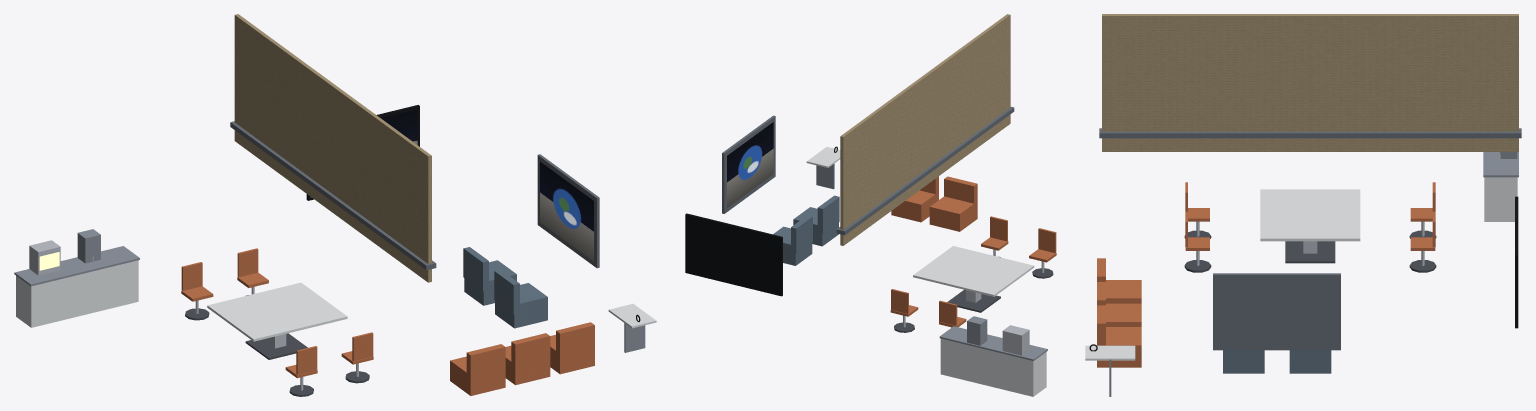
File: social_hub.glb
3 renders of one model, left to right at view 1: azimuth 30°, elevation 25°; view 2: azimuth 150°, elevation 25°; view 3: azimuth 270°, elevation 25°, orthographic. The views are drawn at different scales.
Parts seen in each view (by area): view 1: partition_fabric_partition, table_white_plastic, fabric_hub, fabric_earth, _MeshInstance3D_516, _MeshInstance3D_513; view 2: table_white_plastic, partition_fabric_partition, fabric_hub, _MeshInstance3D_516, fabric_earth; view 3: partition_fabric_partition, table_white_plastic, fabric_hub, fabric_earth.
Boxes of the visible parts, left/top/right/bottom form: partition_fabric_partition: left=234, top=14, right=431, bottom=282; table_white_plastic: left=14, top=105, right=656, bottom=396; fabric_hub: left=181, top=248, right=594, bottom=395; fabric_earth: left=463, top=247, right=547, bottom=328; _MeshInstance3D_516: left=540, top=161, right=593, bottom=261; _MeshInstance3D_513: left=310, top=109, right=417, bottom=197; table_white_plastic: left=685, top=106, right=1053, bottom=396; partition_fabric_partition: left=840, top=14, right=1010, bottom=245; fabric_hub: left=890, top=176, right=1056, bottom=327; _MeshInstance3D_516: left=727, top=122, right=773, bottom=207; fabric_earth: left=773, top=195, right=839, bottom=265; partition_fabric_partition: left=1102, top=14, right=1518, bottom=151; table_white_plastic: left=1085, top=128, right=1521, bottom=396; fabric_hub: left=1097, top=182, right=1435, bottom=367; fabric_earth: left=1223, top=350, right=1331, bottom=373.
Bounding box in the file's own units: 9.92 × 5.3 × 7.85.
7 materials, 7 textured.
